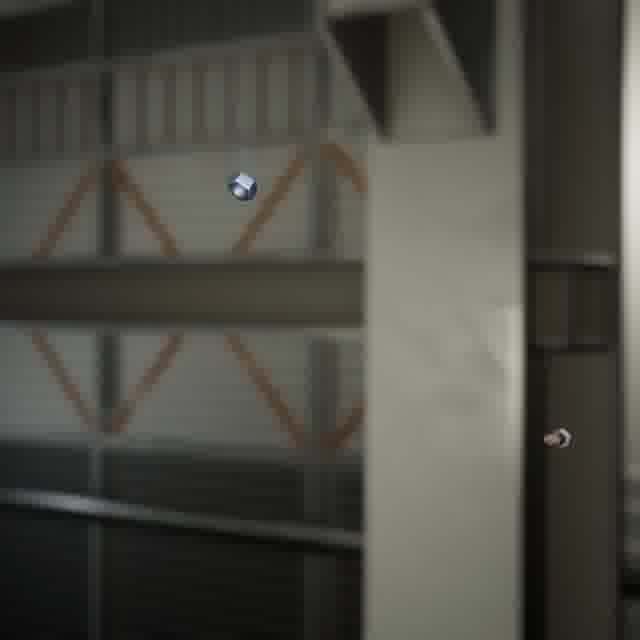bolt: (539, 423, 576, 453)
nut: (221, 167, 261, 205)
